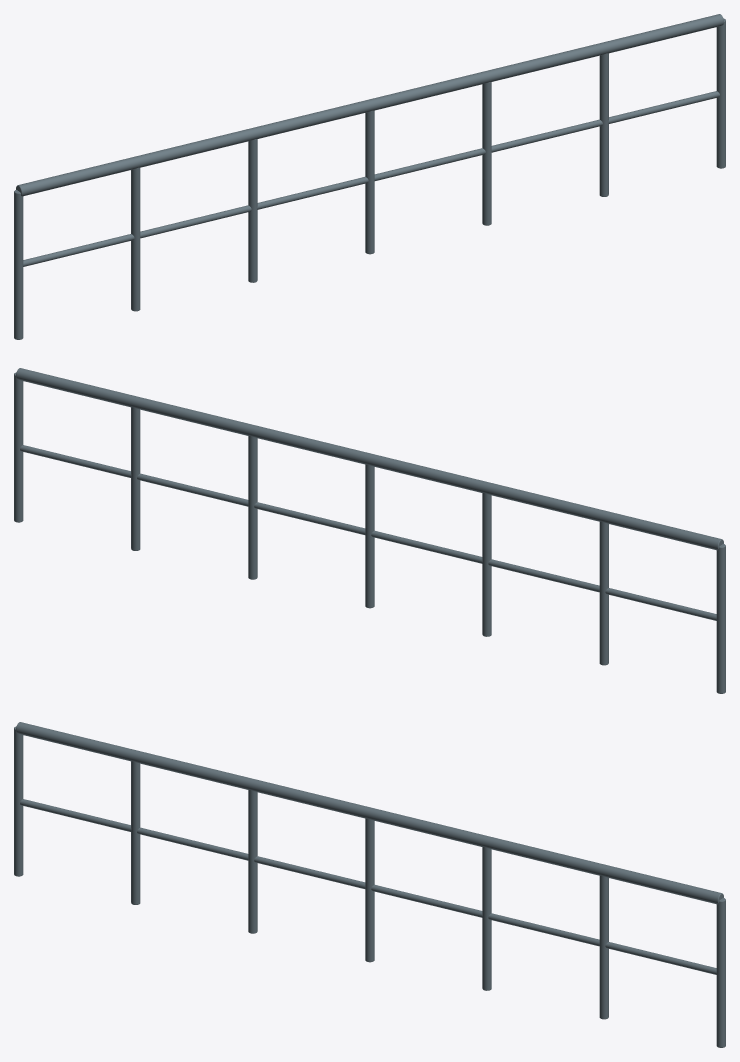
The model's file is railing.fbx.
3 views of the same model, one above another, from view 1: azimuth 30°, elevation 25°; view 2: azimuth 150°, elevation 25°; view 3: azimuth 330°, elevation 25° (orthographic).
Parts seen in each view (by area): view 1: railing; view 2: railing; view 3: railing.
Part boxes in pixels (left/top/right/bottom): railing: left=14, top=14, right=725, bottom=339; railing: left=14, top=368, right=725, bottom=693; railing: left=14, top=722, right=725, bottom=1047.
Bounding box in the file's own units: 607 × 9 × 125.
